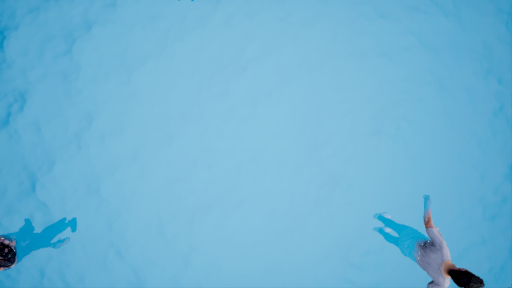person: (370, 197, 465, 283)
